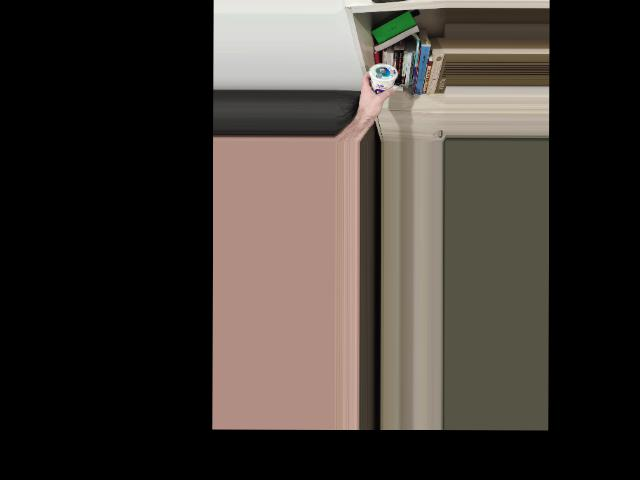cotage: (366, 61, 398, 98)
